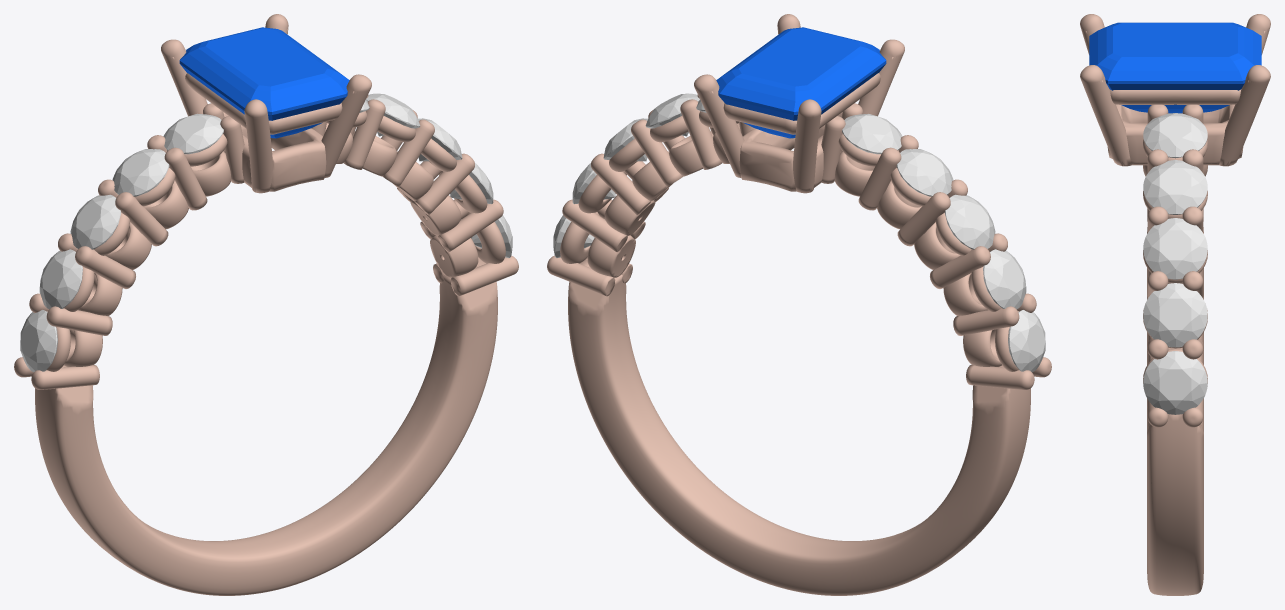
The model's file is bluesapphire-emerald-rosegold-4prong-straightband-11stone.glb.
3 views of the same model, side by side, from view 1: azimuth 30°, elevation 25°; view 2: azimuth 150°, elevation 25°; view 3: azimuth 270°, elevation 25° (orthographic).
Visible parts, largest first — view 1: metal, stone, side.004, side.003, side.005, side, side.006, side.010; view 2: metal, stone, side.004, side.003, side.005, side, side.006, side.010; view 3: metal, stone, side.008, side.007, side.009, side.010, side.011.
Part boxes in pixels (x1,y1,x2,y2): metal: (14, 14, 518, 595); stone: (179, 27, 349, 138); side.004: (70, 194, 121, 249); side.003: (39, 249, 82, 309); side.005: (112, 149, 169, 196); side: (20, 310, 57, 372); side.006: (163, 113, 223, 154); side.010: (366, 93, 420, 136); metal: (547, 14, 1051, 595); stone: (716, 27, 886, 138); side.004: (944, 194, 995, 249); side.003: (983, 249, 1026, 309); side.005: (896, 149, 953, 196); side: (1008, 310, 1045, 372); side.006: (842, 113, 902, 154); side.010: (645, 93, 699, 136); metal: (1080, 14, 1270, 595); stone: (1089, 22, 1261, 113); side.008: (1143, 283, 1207, 347); side.007: (1143, 351, 1207, 414); side.009: (1143, 218, 1207, 279); side.010: (1143, 160, 1207, 214); side.011: (1143, 113, 1207, 158).
Bounding box in the file's own units: 21.87 × 22.75 × 7.4.
